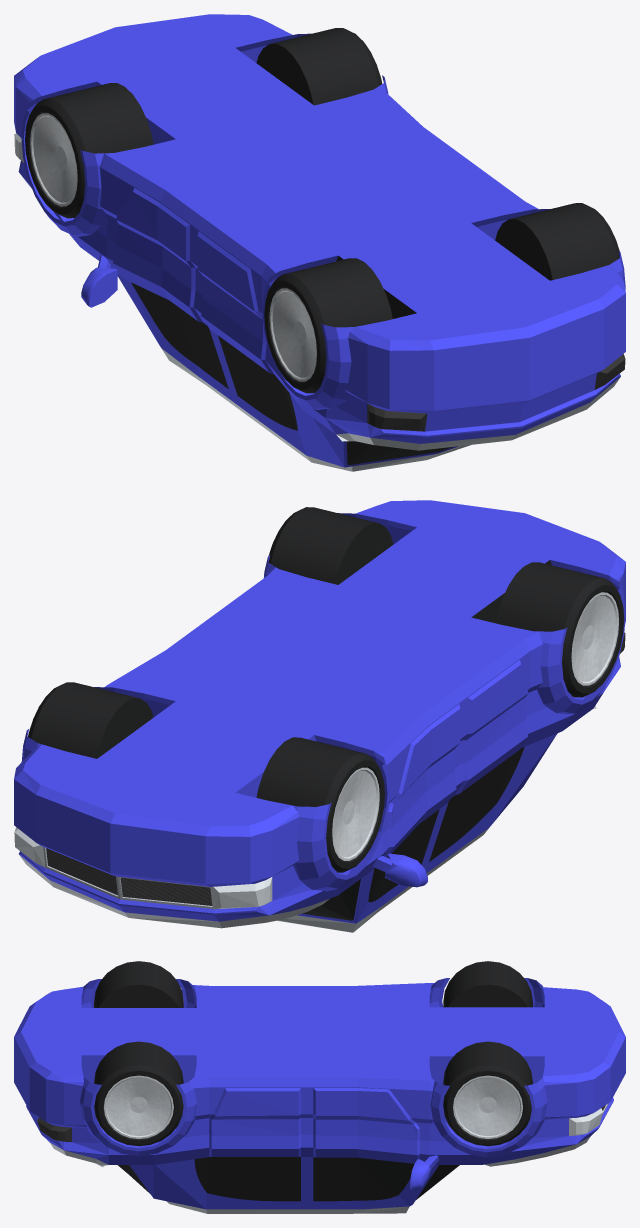
Rendered from Car_for_game.FBX.
3 renders of one model, top to bottom at view 1: azimuth 30°, elevation 25°; view 2: azimuth 150°, elevation 25°; view 3: azimuth 270°, elevation 25°, orthographic. The views are drawn at different scales.
Parts seen in each view (by area): view 1: body#1_005; view 2: body#1_005; view 3: body#1_005.
Part boxes in pixels (box(x1,y1,x2,y2)): body#1_005: box(14, 14, 625, 471); body#1_005: box(14, 500, 625, 932); body#1_005: box(14, 961, 625, 1213).
Bounding box in the file's own units: 99.48 × 213 × 67.6.
Materials: 5 (4 with a texture image).
